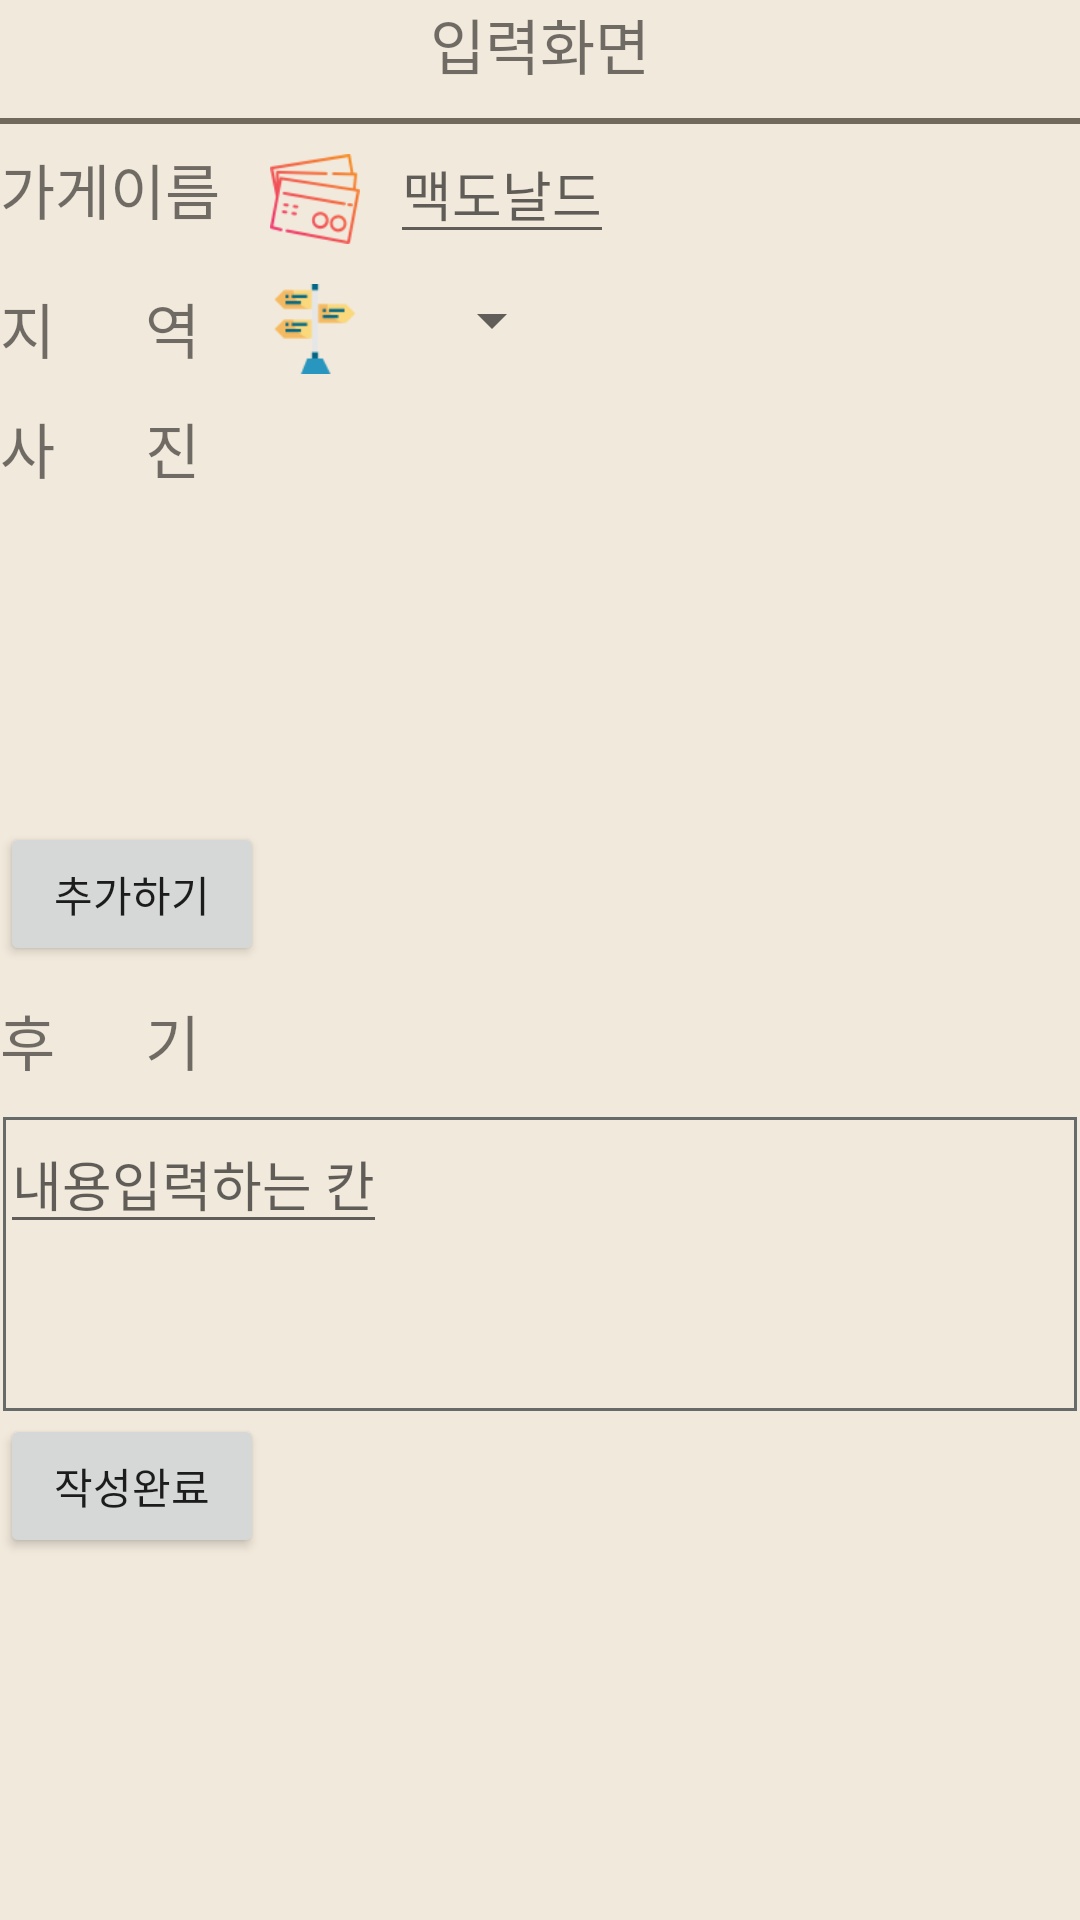

Where icons sit on this 1080x1920 app screen, as [x1=x1, y1=y1, x2=x2, y2=y2]:
location: [x1=275, y1=284, x2=355, y2=374]
